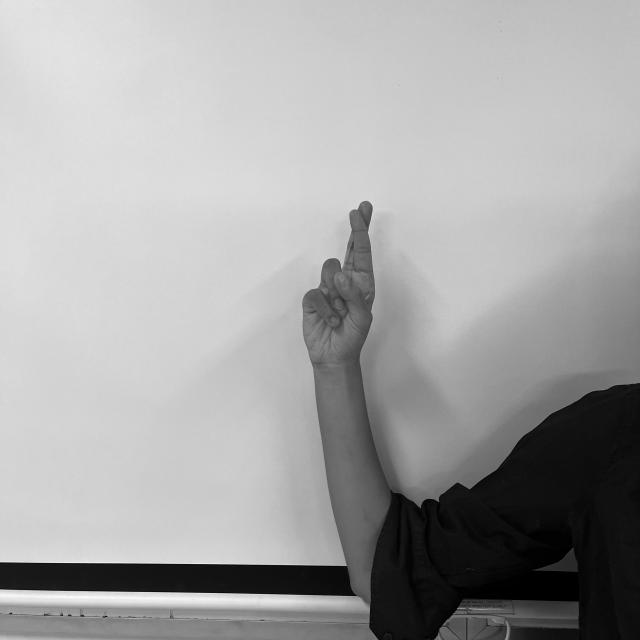Letra R: (300, 196, 378, 368)
